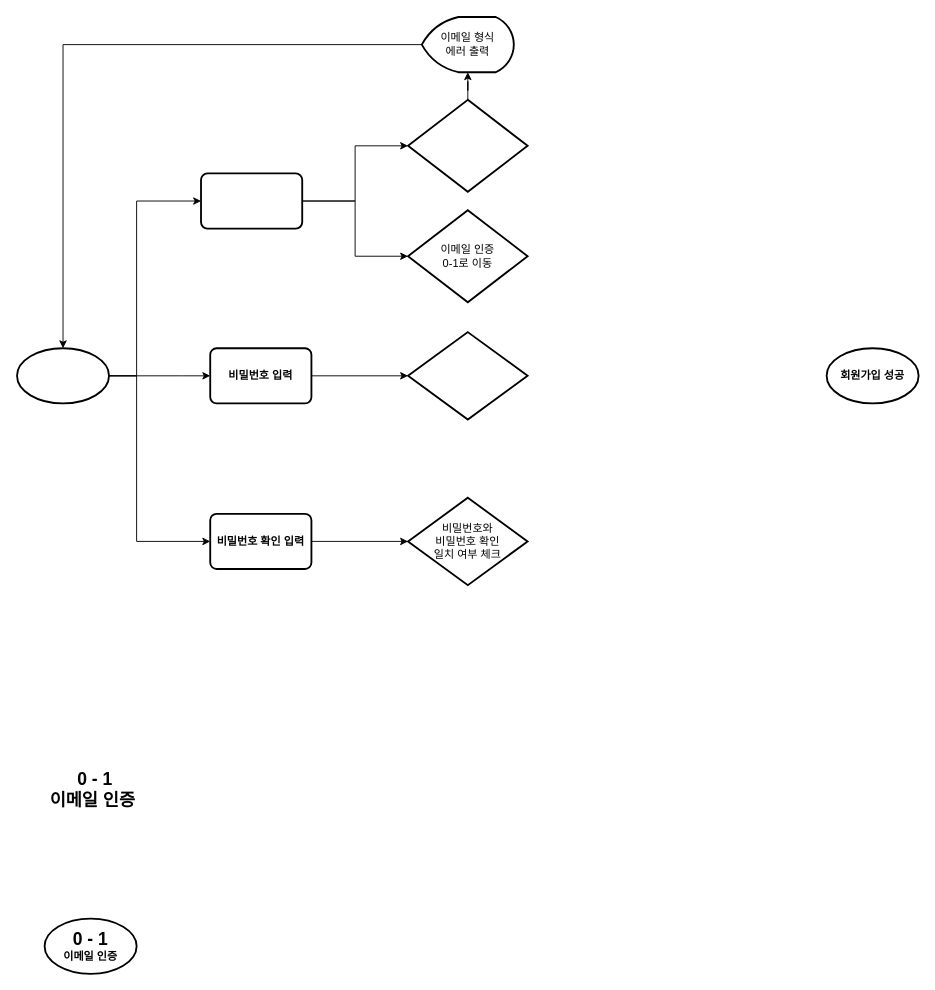
Image size: 935x990. Some labels were removed from this diagram. The shapes that lost their labels are listed below. From the top down, each one's centre as x and y in pixels, then its label:
At (467,145): "이메일 형식 체크".
At (251,200): "이메일 입력".
At (62,375): "회원가입 진입".
At (467,375): "비밀번호 형식 체크".
